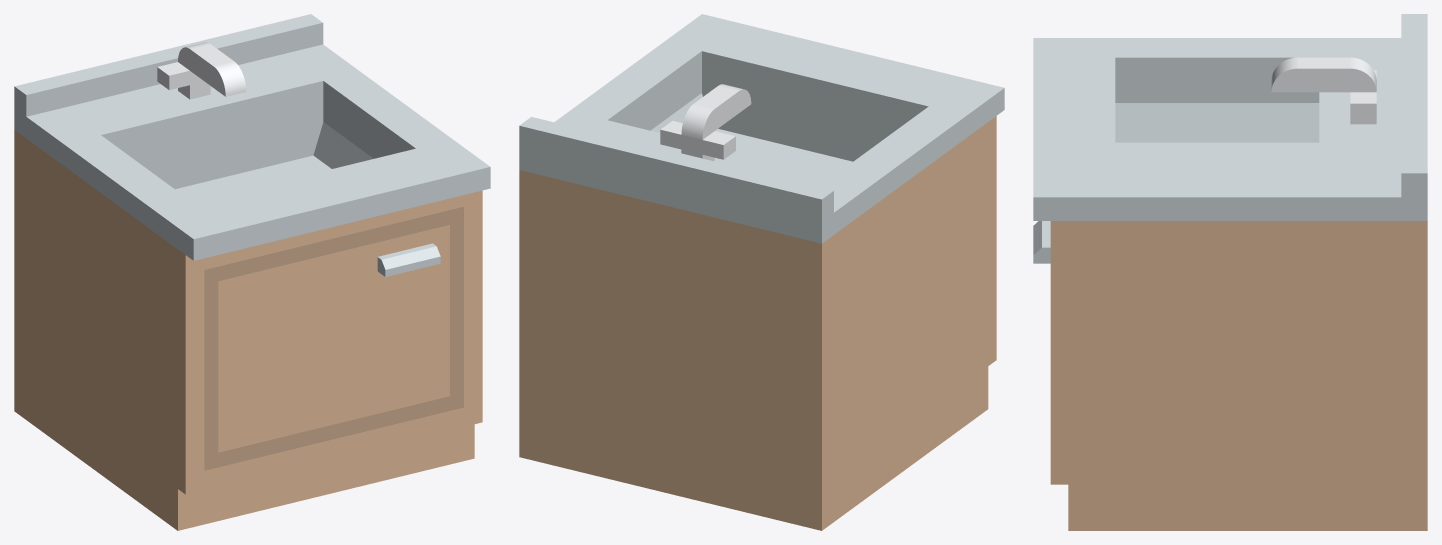
File: kitchen_sink.glb
The picture shows the model from 3 angles, left to right: view 1: azimuth 30°, elevation 25°; view 2: azimuth 150°, elevation 25°; view 3: azimuth 270°, elevation 25°; orthographic projection. The views are drawn at different scales.
Parts seen in each view (by area): view 1: kitchenSink(Clone); view 2: kitchenSink(Clone); view 3: kitchenSink(Clone).
Boxes of the visible parts, x1,y1,x2,y2 form: kitchenSink(Clone): [14, 14, 490, 530]; kitchenSink(Clone): [519, 14, 1004, 530]; kitchenSink(Clone): [1033, 14, 1427, 530].
Size of the model in its own units: 0.43 by 0.49 by 0.45.
1 material, 1 textured.
